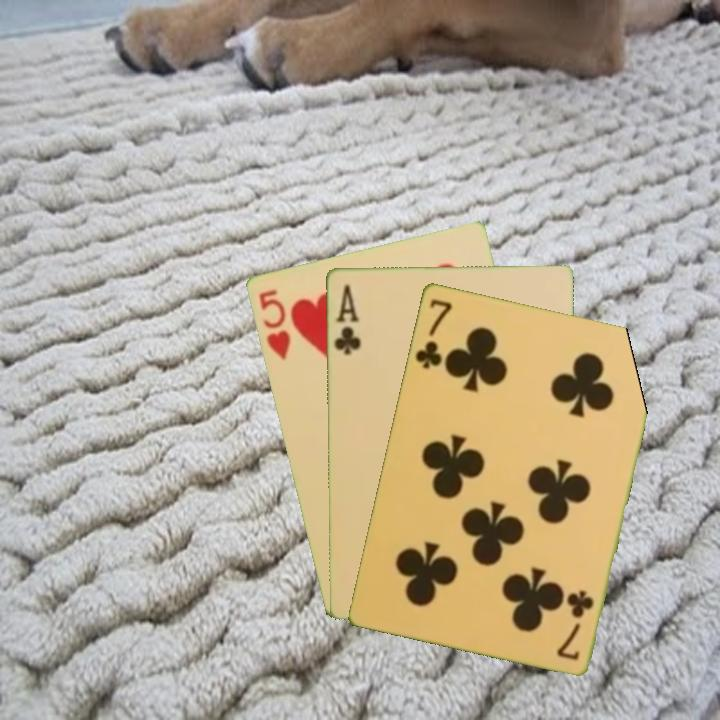5h: (254, 285, 293, 363)
7c: (553, 586, 597, 663), (411, 295, 455, 371)
Ac: (331, 280, 364, 357)
